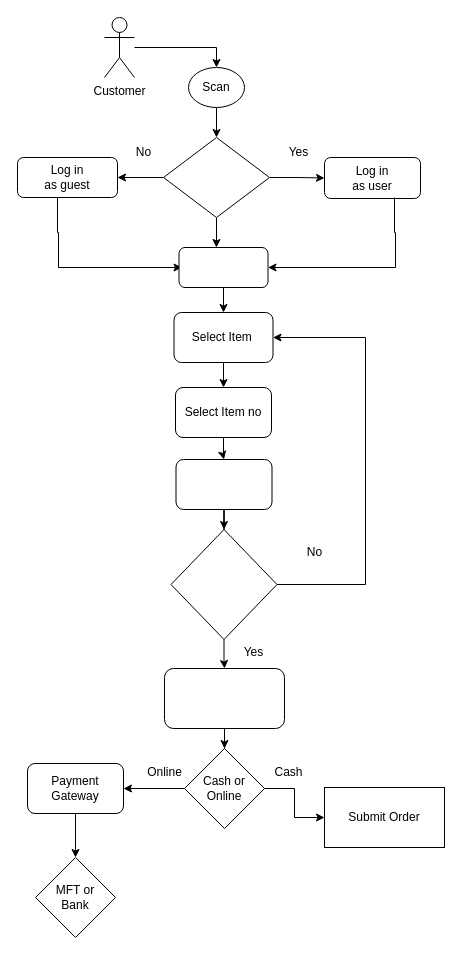
The diagram is 462 pixels wide and 955 high, and some of its shapes have lost their labels. Here are the shapes that lost their labels. From the top down, the centre of each, then its label:
At (216,177): "Is Registered ?".
At (223,267): "Open Menu".
At (223,484): "Add to Cart".
At (223,584): "Is Selection Complete?".
At (224,698): "Special note".
